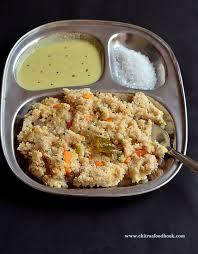coconut chutney: (12, 36, 102, 88)
upma: (9, 86, 175, 196)
